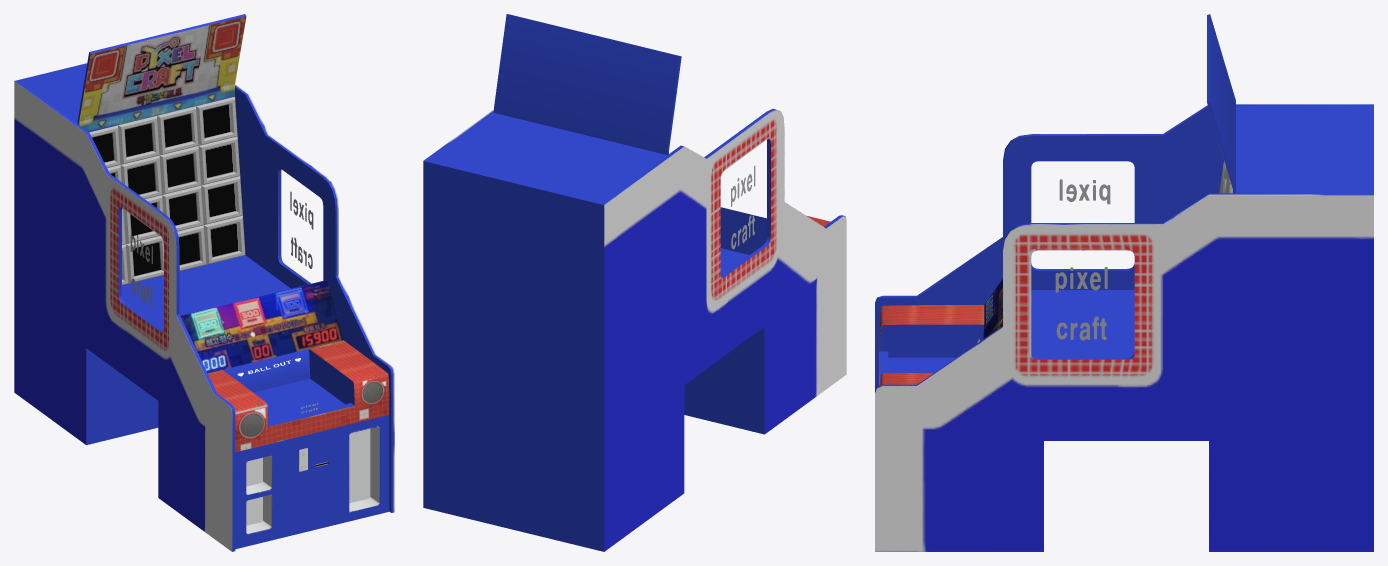
The model's file is LC_3115_gameC_LOD2.FBX.
3 renders of one model, left to right at view 1: azimuth 30°, elevation 25°; view 2: azimuth 150°, elevation 25°; view 3: azimuth 270°, elevation 25°, orthographic. The views are drawn at different scales.
Parts seen in each view (by area): view 1: LC_3115_gameC_LOD2; view 2: LC_3115_gameC_LOD2; view 3: LC_3115_gameC_LOD2.
Boxes of the visible parts, box(x1,y1,x2,y2) form: LC_3115_gameC_LOD2: box(14, 14, 394, 551); LC_3115_gameC_LOD2: box(423, 14, 846, 551); LC_3115_gameC_LOD2: box(875, 14, 1373, 551).
Size of the model in its own units: 104 by 240 by 242.
1 material, 1 textured.
